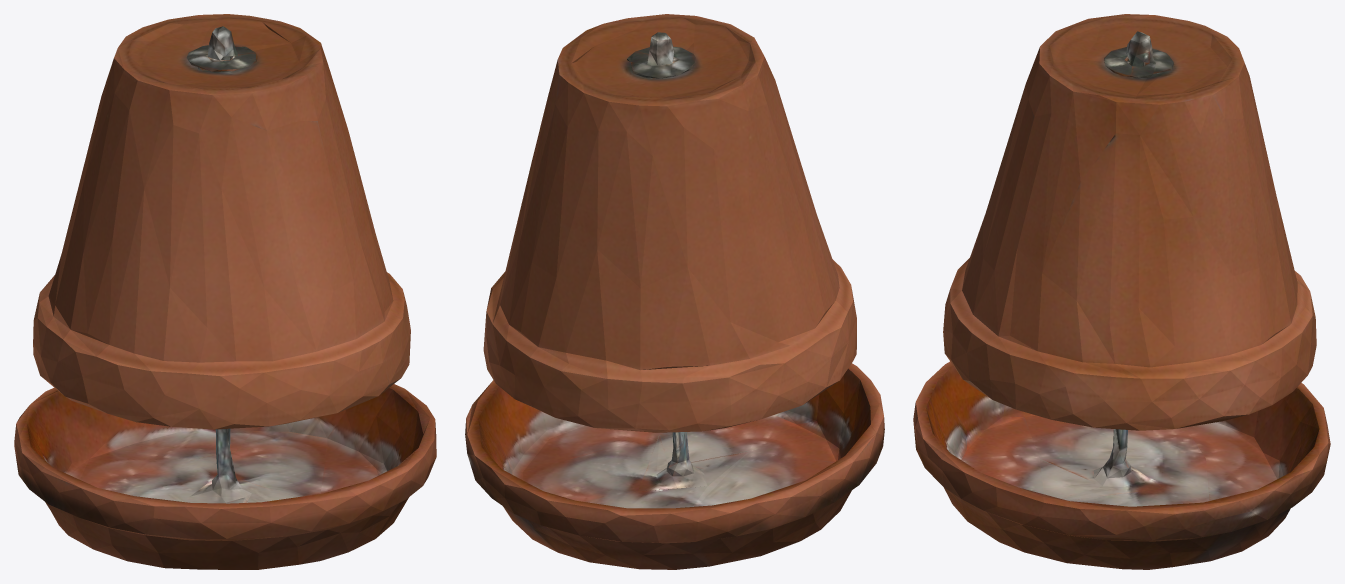
File: 88981269-BEA8-0D4D-8E64-1DB7CB0B7F14_512.glb
3 views of the same model, side by side, from view 1: azimuth 30°, elevation 25°; view 2: azimuth 150°, elevation 25°; view 3: azimuth 270°, elevation 25° (orthographic).
Visible parts, largest first — view 1: Teelichtofen_2k_0.5k; view 2: Teelichtofen_2k_0.5k; view 3: Teelichtofen_2k_0.5k.
Part boxes in pixels (x1,y1,x2,y2): Teelichtofen_2k_0.5k: (14,14,436,569); Teelichtofen_2k_0.5k: (465,14,884,569); Teelichtofen_2k_0.5k: (913,14,1330,569).
Bounding box in the file's own units: 0.1955 × 0.248 × 0.1962.
1 material, 1 textured.
